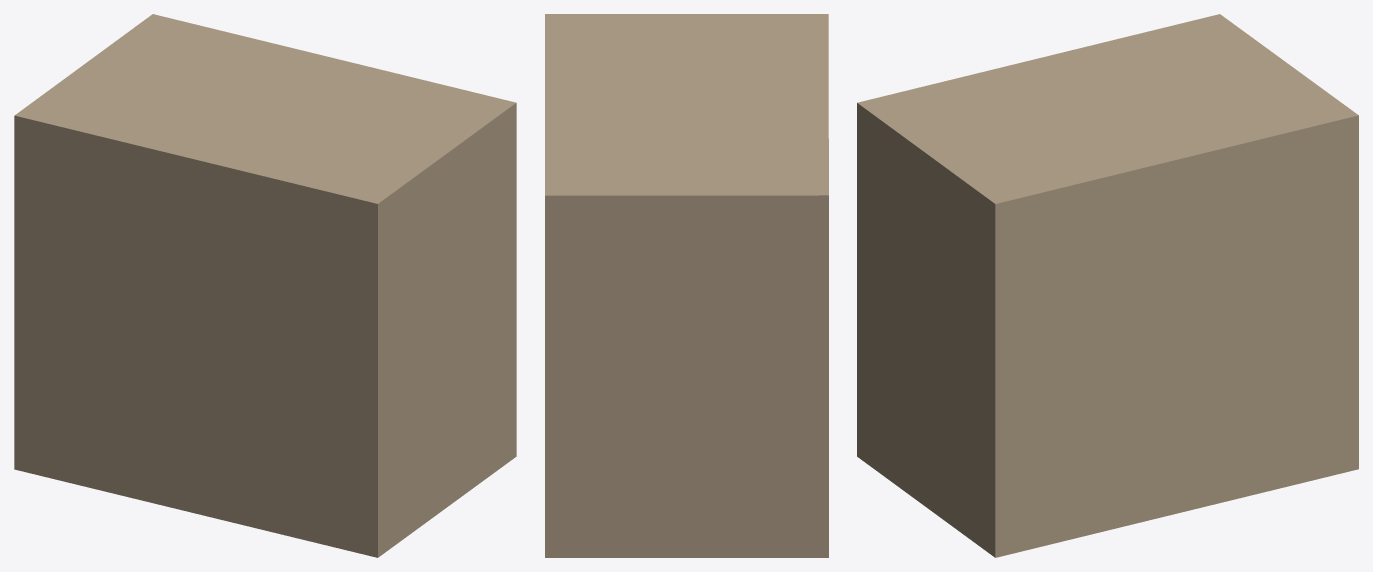
File: bld_163484330.dae
The picture shows the model from 3 angles, left to right: view 1: azimuth 30°, elevation 25°; view 2: azimuth 150°, elevation 25°; view 3: azimuth 270°, elevation 25°; orthographic projection. The views are drawn at different scales.
Visible parts, largest first — view 1: bld_163484330; view 2: bld_163484330; view 3: bld_163484330.
Part boxes in pixels (x1,y1,x2,y2): bld_163484330: (14,14,516,557); bld_163484330: (545,14,828,557); bld_163484330: (857,14,1358,557).
Bounding box in the file's own units: 9.22 × 10.28 × 8.
